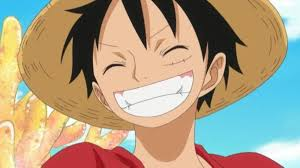luffy: (18, 1, 289, 168)
